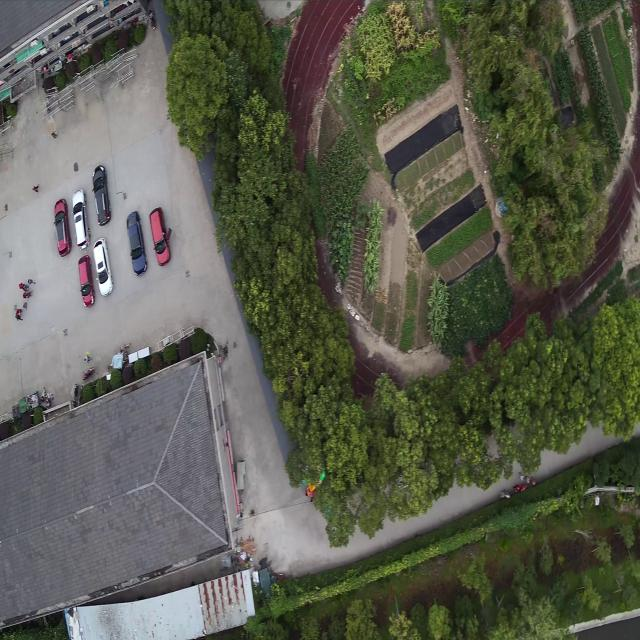UAV: (216, 552, 236, 572)
